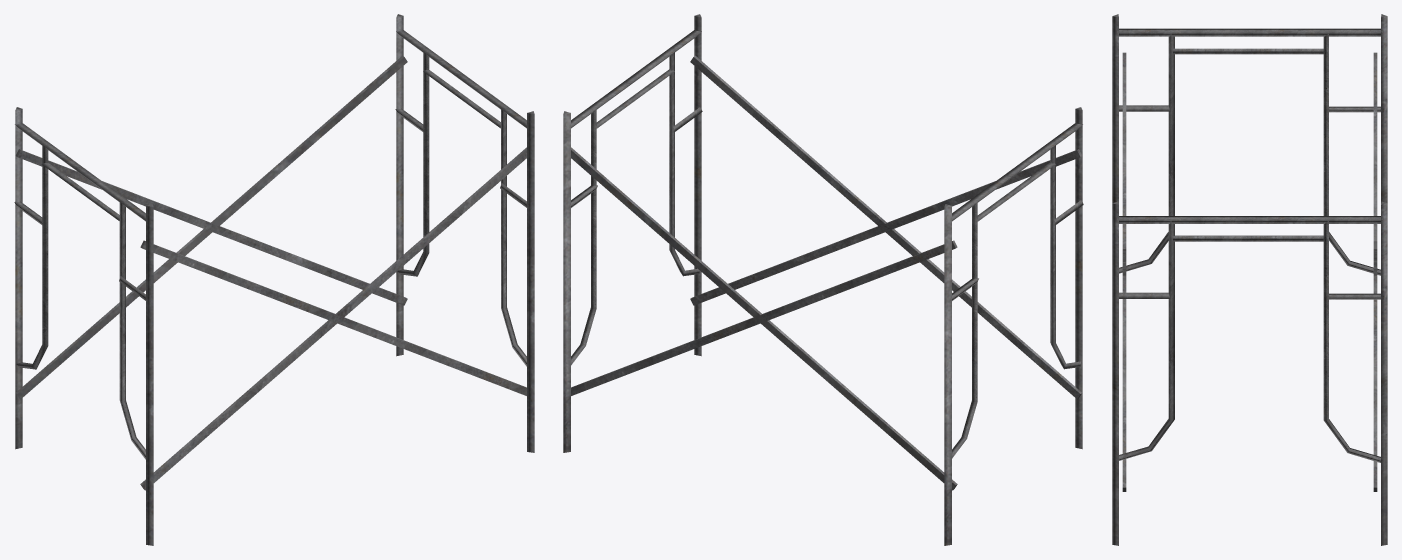
Rendered from gangjia.FBX.
The picture shows the model from 3 angles, left to right: view 1: azimuth 30°, elevation 25°; view 2: azimuth 150°, elevation 25°; view 3: azimuth 270°, elevation 25°; orthographic projection.
Parts seen in each view (by area): view 1: polySurface266; view 2: polySurface266; view 3: polySurface266.
Part boxes in pixels (<box>): polySurface266: <box>14,14,534,545</box>; polySurface266: <box>563,14,1083,545</box>; polySurface266: <box>1112,14,1387,545</box>.
Bounding box in the file's own units: 3.07 × 2.55 × 1.86.
